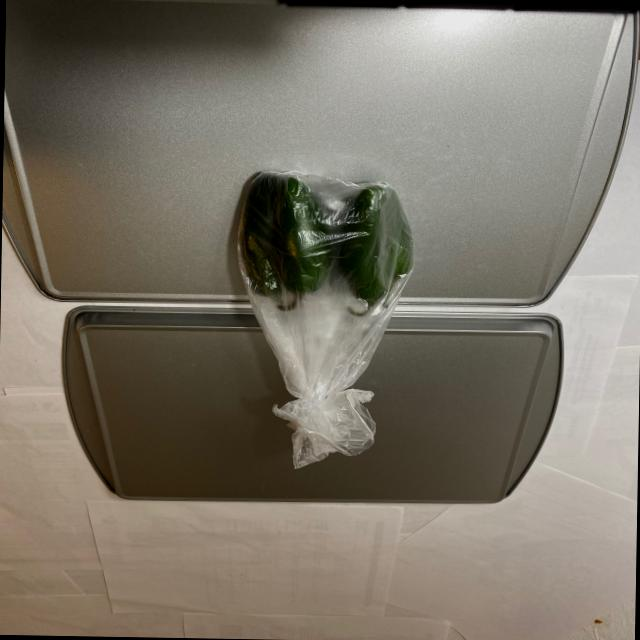chilli: (226, 170, 422, 332)
